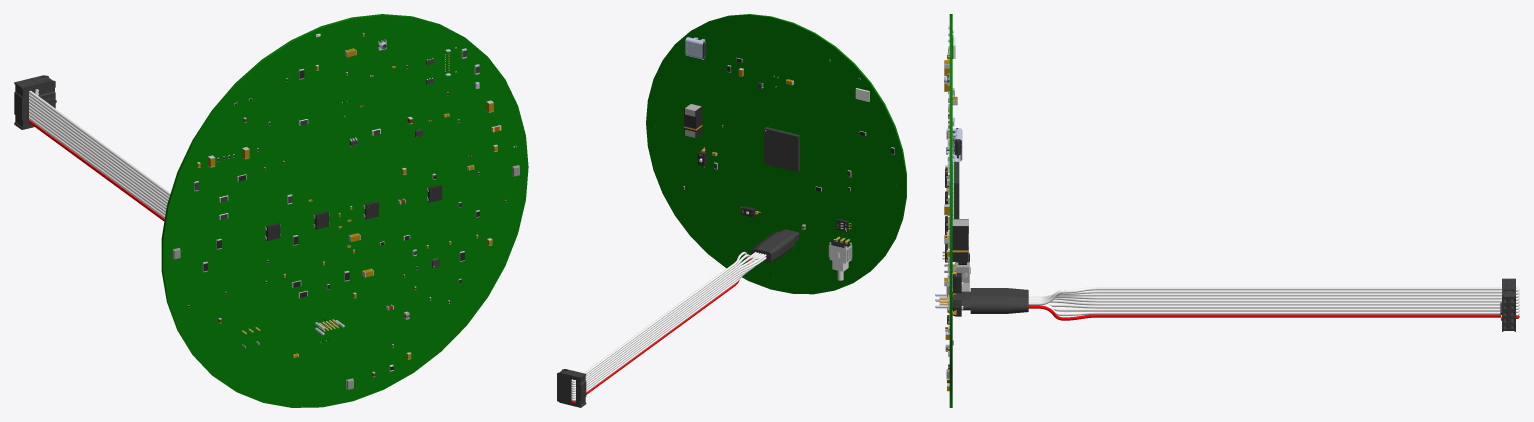
File: Take2.glb
The picture shows the model from 3 angles, left to right: view 1: azimuth 30°, elevation 25°; view 2: azimuth 150°, elevation 25°; view 3: azimuth 270°, elevation 25°; orthographic projection. The views are drawn at different scales.
Parts seen in each view (by area): view 1: Open CASCADE STEP translator 7.5 1, Open CASCADE STEP translator 7.5 2; view 2: Open CASCADE STEP translator 7.5 1, Open CASCADE STEP translator 7.5 2, Open CASCADE STEP translator 7.5 3, Open CASCADE STEP translator 7.5 209, Open CASCADE STEP translator 7.5 32, Open CASCADE STEP translator 7.5 210; view 3: Open CASCADE STEP translator 7.5 2, Open CASCADE STEP translator 7.5 1, Open CASCADE STEP translator 7.5 209.
Part boxes in pixels (left/top/right/bottom): Open CASCADE STEP translator 7.5 1: left=161, top=14, right=528, bottom=407; Open CASCADE STEP translator 7.5 2: left=14, top=75, right=344, bottom=335; Open CASCADE STEP translator 7.5 1: left=646, top=14, right=906, bottom=294; Open CASCADE STEP translator 7.5 2: left=557, top=229, right=799, bottom=407; Open CASCADE STEP translator 7.5 3: left=764, top=127, right=799, bottom=172; Open CASCADE STEP translator 7.5 209: left=684, top=104, right=702, bottom=137; Open CASCADE STEP translator 7.5 32: left=829, top=239, right=851, bottom=280; Open CASCADE STEP translator 7.5 210: left=685, top=37, right=705, bottom=59; Open CASCADE STEP translator 7.5 2: left=935, top=278, right=1519, bottom=331; Open CASCADE STEP translator 7.5 1: left=949, top=14, right=952, bottom=407; Open CASCADE STEP translator 7.5 209: left=952, top=219, right=968, bottom=261.
Bounding box in the file's own units: 0.1378 × 0.1379 × 0.2044.
